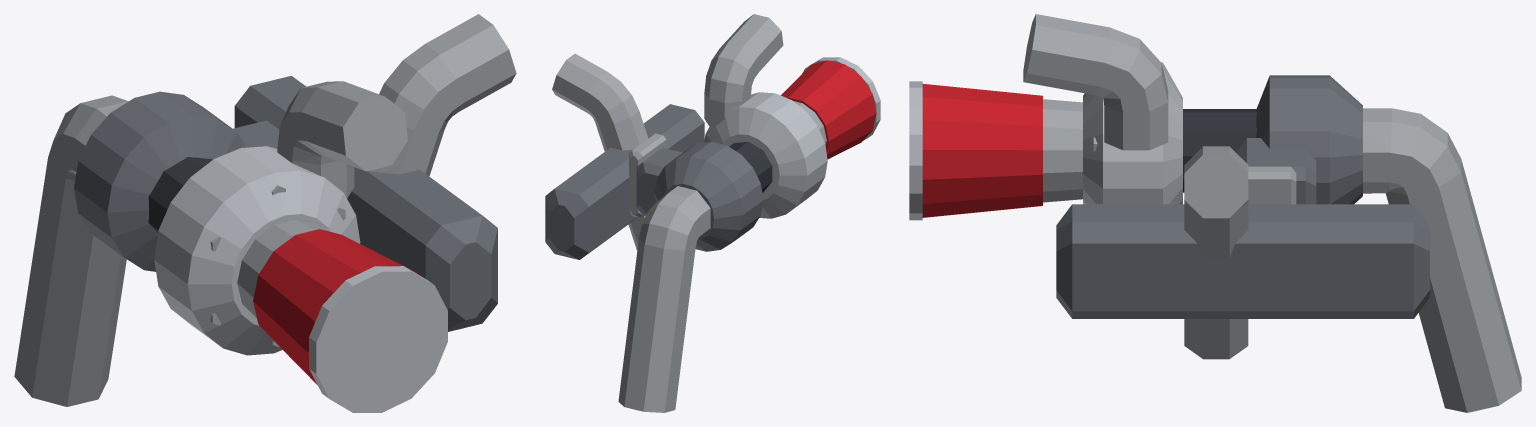
Rendered from ridgeback_4x4.glb.
3 views of the same model, side by side, from view 1: azimuth 30°, elevation 25°; view 2: azimuth 150°, elevation 25°; view 3: azimuth 270°, elevation 25° (orthographic). The views are drawn at different scales.
Visible parts, largest first — view 1: model; view 2: model; view 3: model.
Boxes of the visible parts, left/top/right/bottom form: model: left=14, top=14, right=516, bottom=412; model: left=545, top=14, right=880, bottom=412; model: left=909, top=14, right=1521, bottom=412.
Size of the model in its own units: 0.2938 by 0.3375 by 0.4587.
2 materials, 1 textured.
